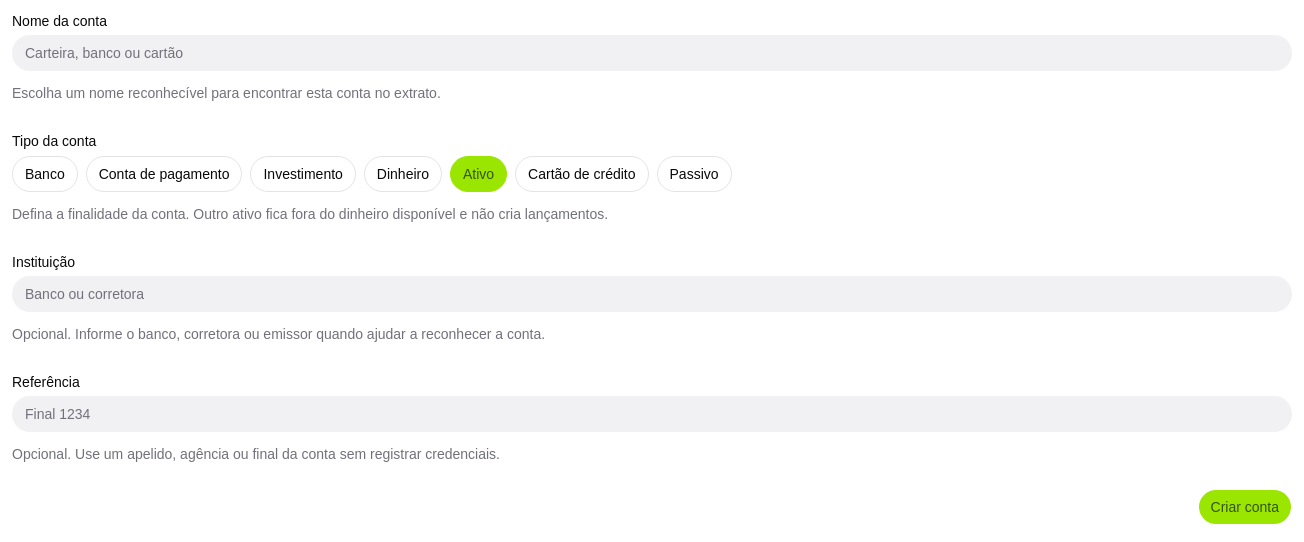
Test: AccountForm › requires a selected account kind before sending a command
The image size is (1304, 542).
Click the button "Ativo": (479, 174) [450,156,507,192]
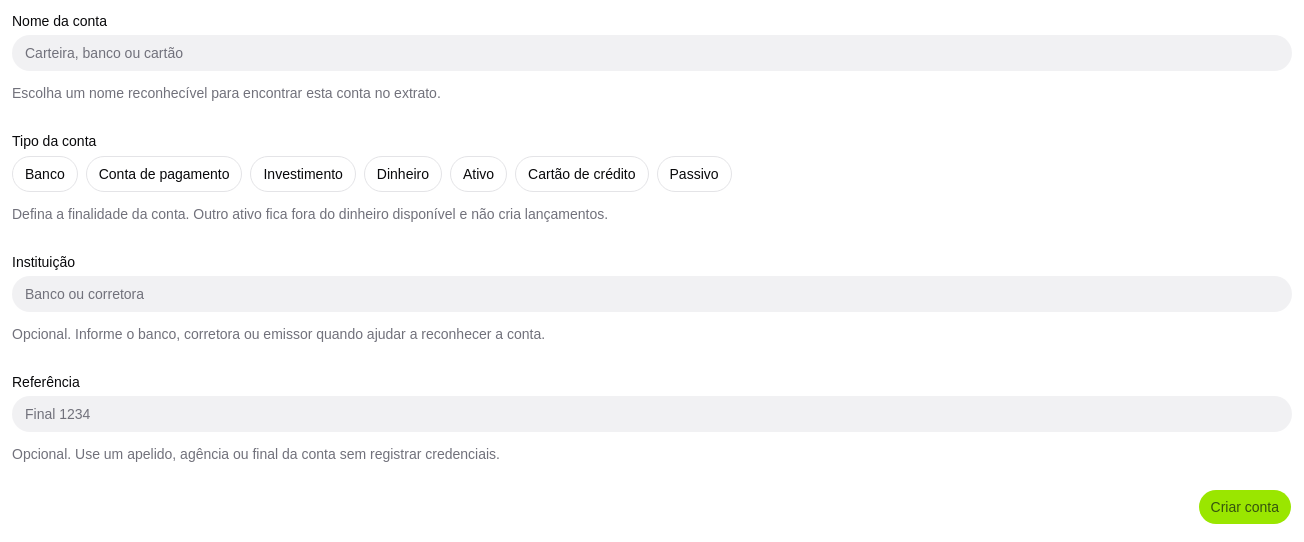
Click the button "Criar conta": (1245, 507) [1198,489,1292,525]
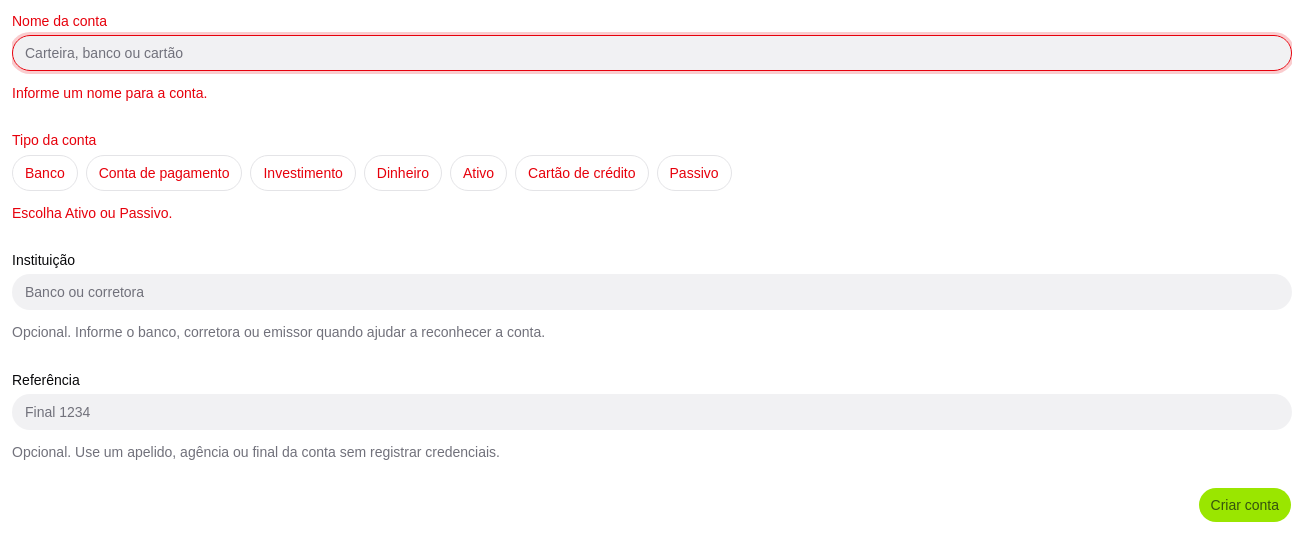
Now the text "Escolha Ativo ou Passivo." is shown, box [12,204,172,220]
